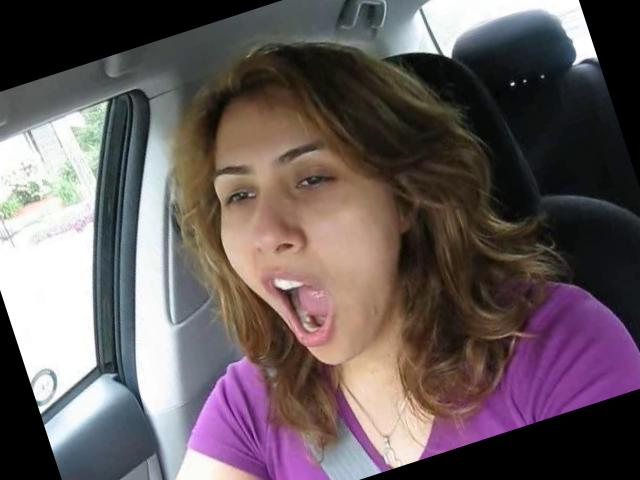eye_open: (288, 159, 342, 201), (217, 177, 260, 214)
face: (182, 103, 432, 396)
mouth_open: (258, 256, 348, 358)
